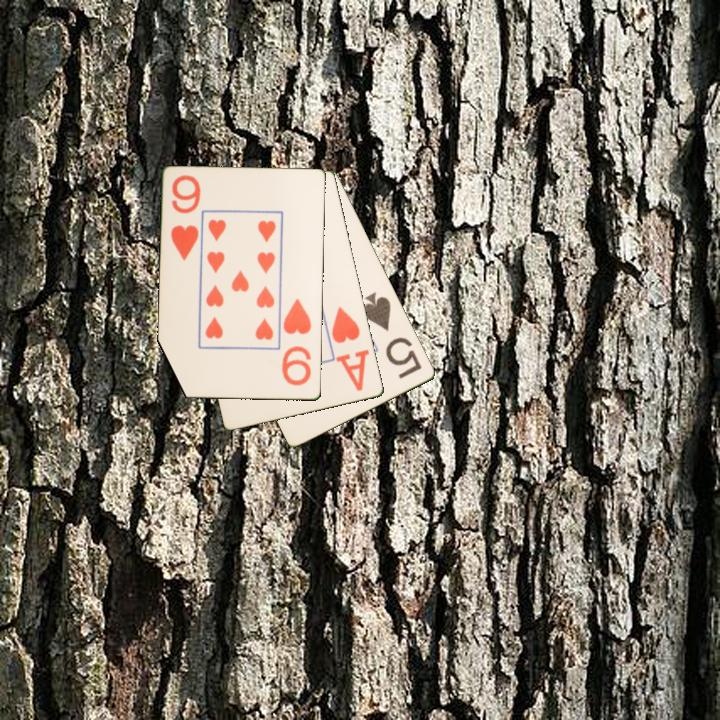5s: (359, 288, 425, 382)
9h: (279, 295, 314, 389), (168, 172, 203, 264)
Ah: (328, 303, 372, 394)
